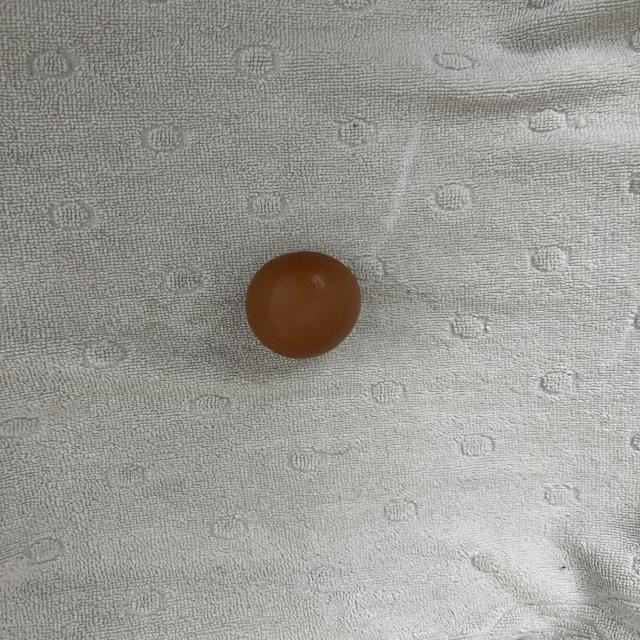egg: (238, 250, 365, 363)
